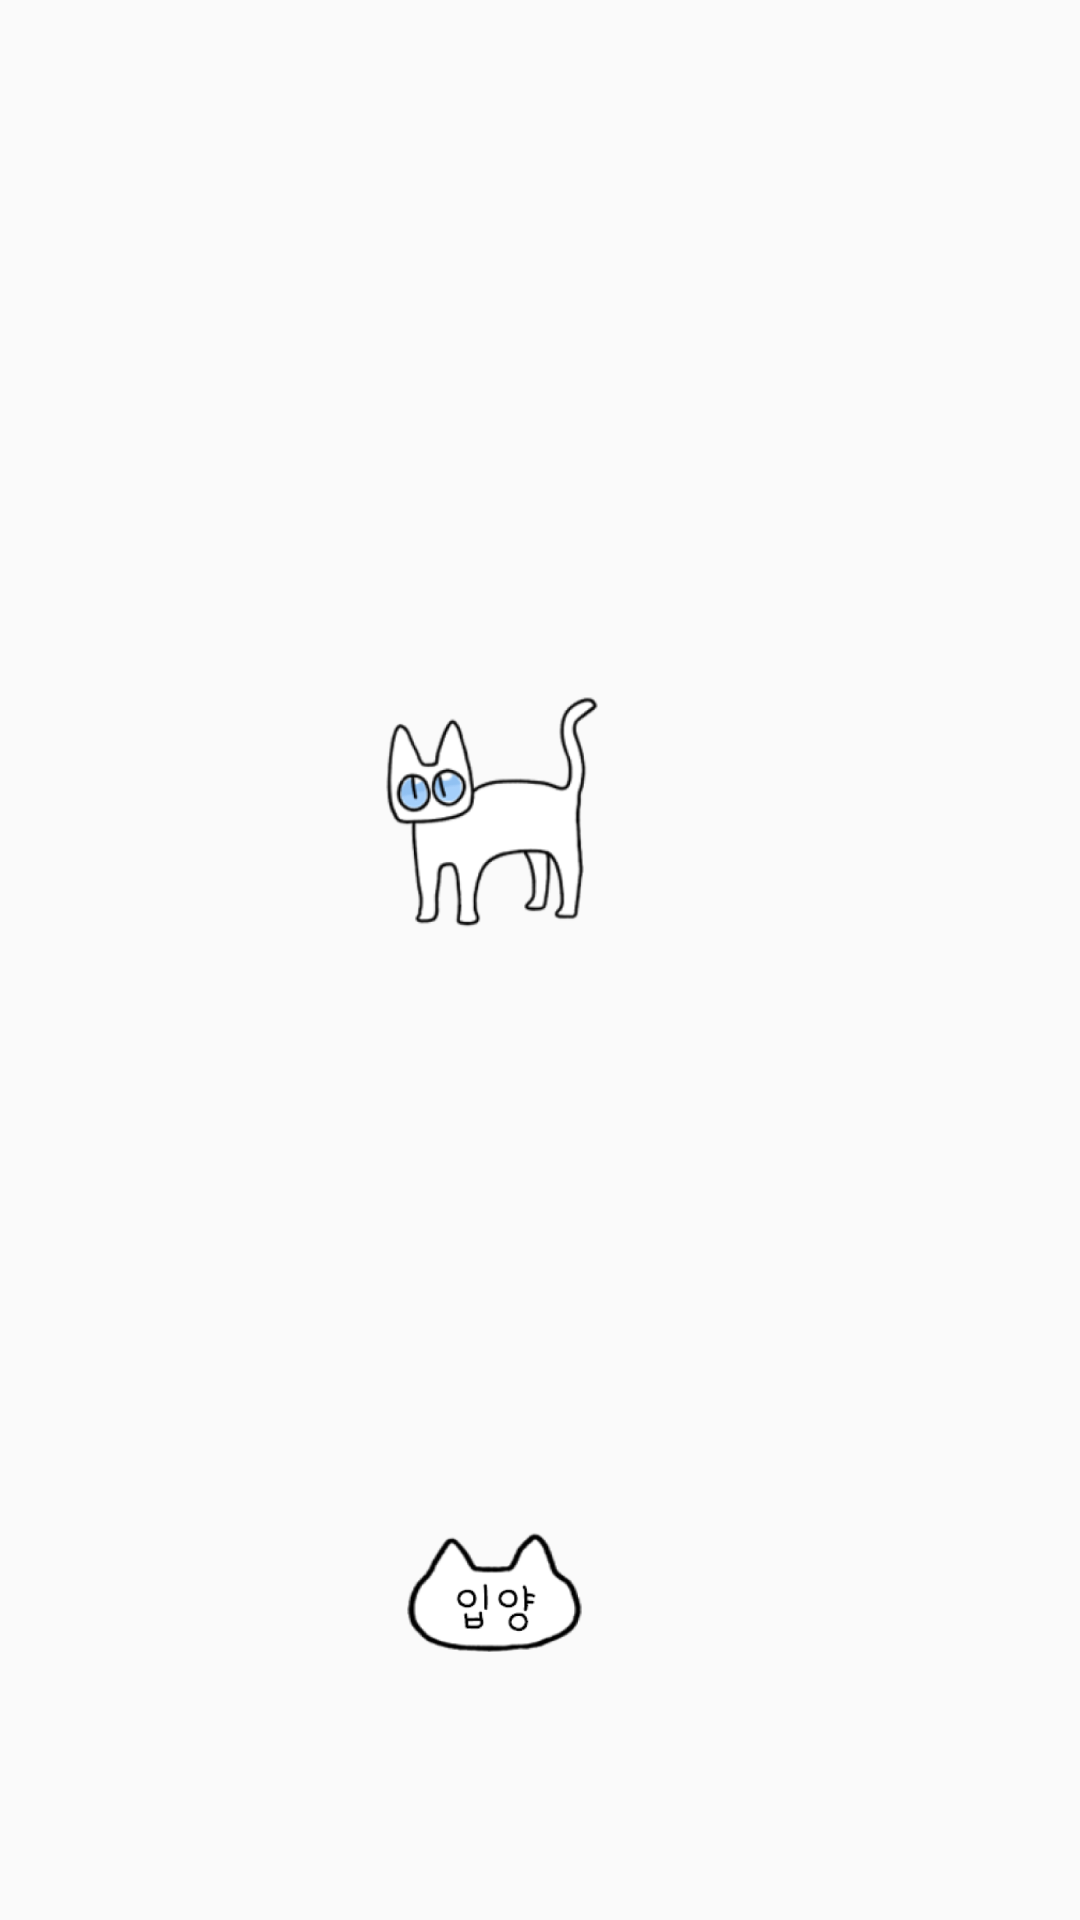

Screen size 1080*1920. Icon name, then its center in pixels as (x=x, y=y):
cat: (x=492, y=812)
